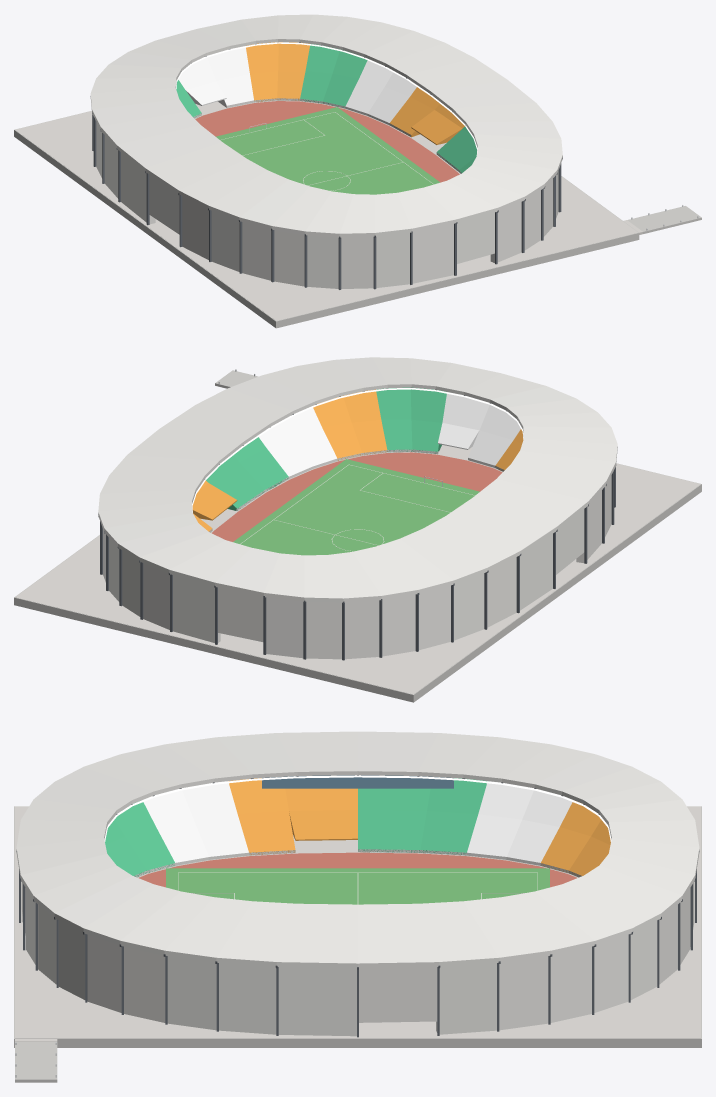
The model's file is SM_Stade_FHB.fbx.
The picture shows the model from 3 angles, top to bottom: view 1: azimuth 30°, elevation 25°; view 2: azimuth 150°, elevation 25°; view 3: azimuth 270°, elevation 25°; orthographic projection. The views are drawn at different scales.
Visible parts, largest first — view 1: Stade_Facade_Roof, Stade_Field_Bowl; view 2: Stade_Facade_Roof, Stade_Field_Bowl; view 3: Stade_Facade_Roof, Stade_Field_Bowl.
Part boxes in pixels (x1,y1,x2,y2): Stade_Facade_Roof: (90,14,562,289); Stade_Field_Bowl: (14,42,701,328); Stade_Facade_Roof: (98,357,617,660); Stade_Field_Bowl: (14,369,701,702); Stade_Facade_Roof: (16,731,699,1037); Stade_Field_Bowl: (14,778,701,1082).
Bounding box in the file's own units: 18825 × 3015 × 20050.
